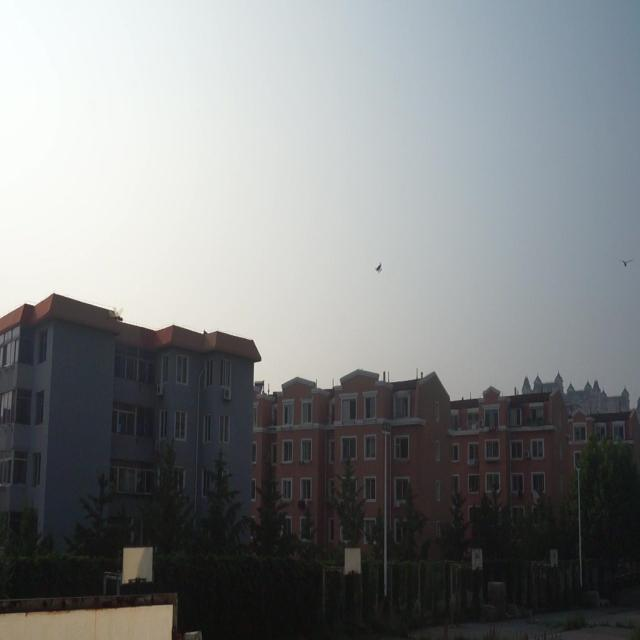drone: (372, 260, 385, 274)
